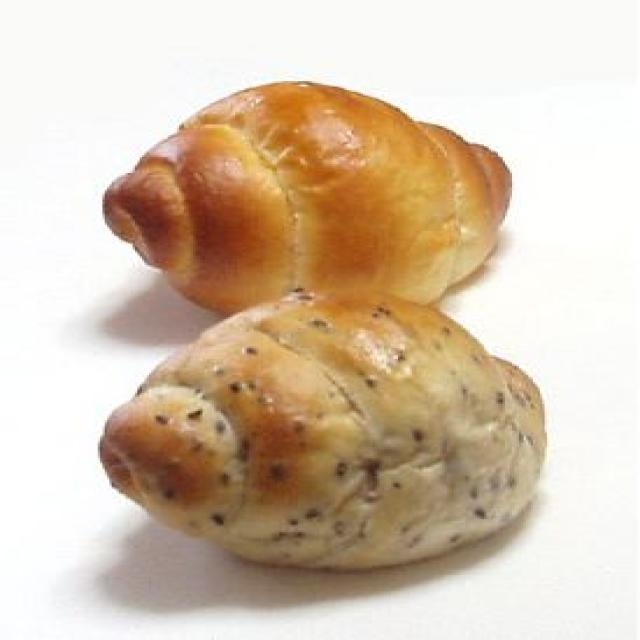面包点心: (91, 59, 554, 578)
